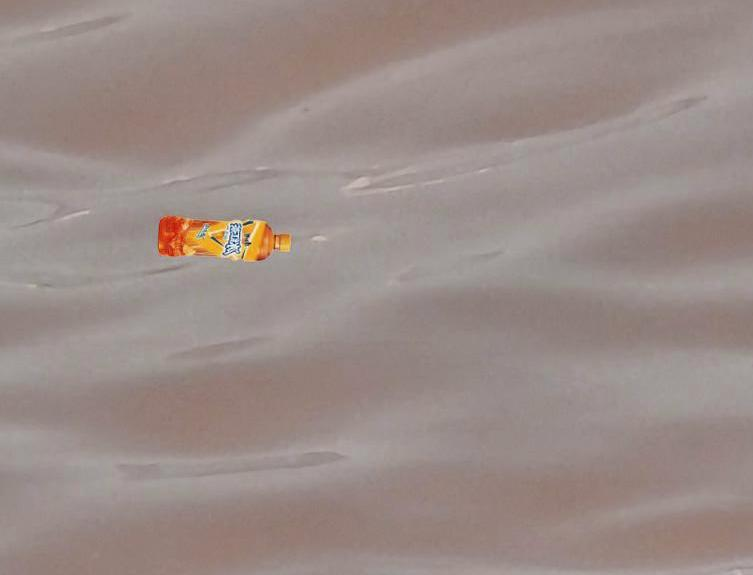Plastic: (155, 210, 295, 265)
